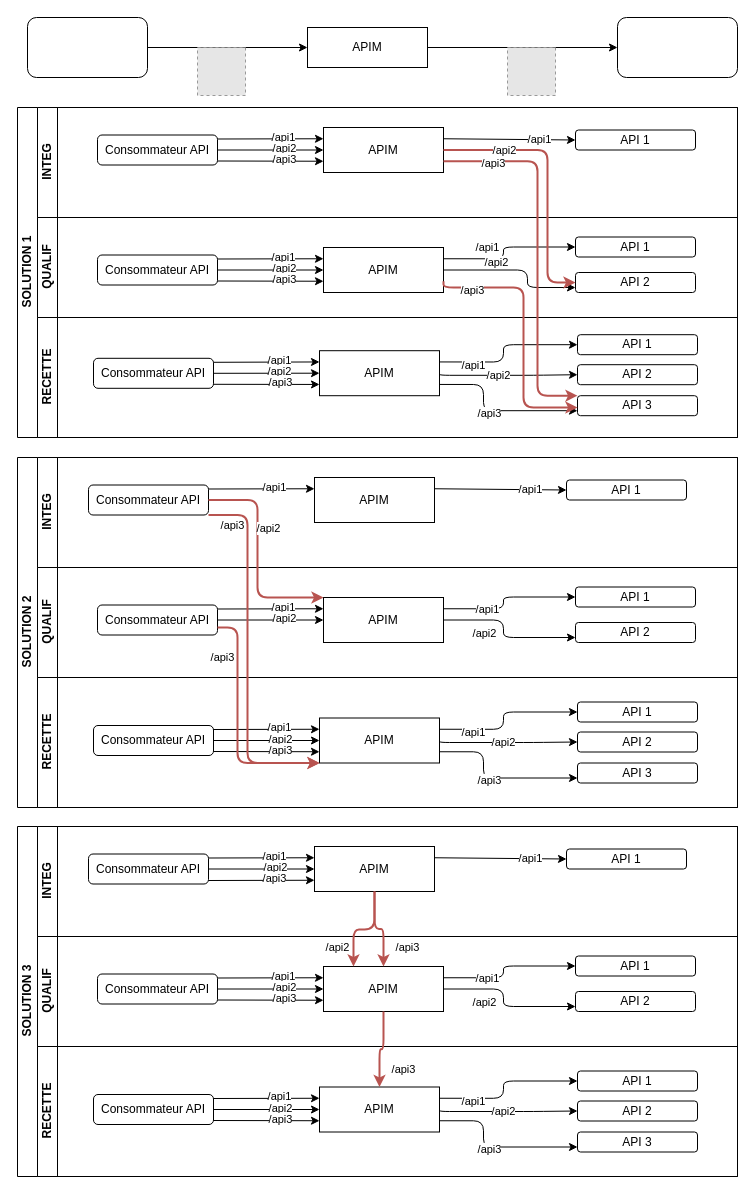
Some shapes in this 755 by 1194 pixel diagram are drawn without their labels. Grey dashed boxes stand in for pictures. The box of each missing label's shape, as (x1, y1, x2, y2) in pixels:
Consommateur de Service: (26, 16, 148, 78)
Fournisseur de Service: (616, 16, 738, 78)
